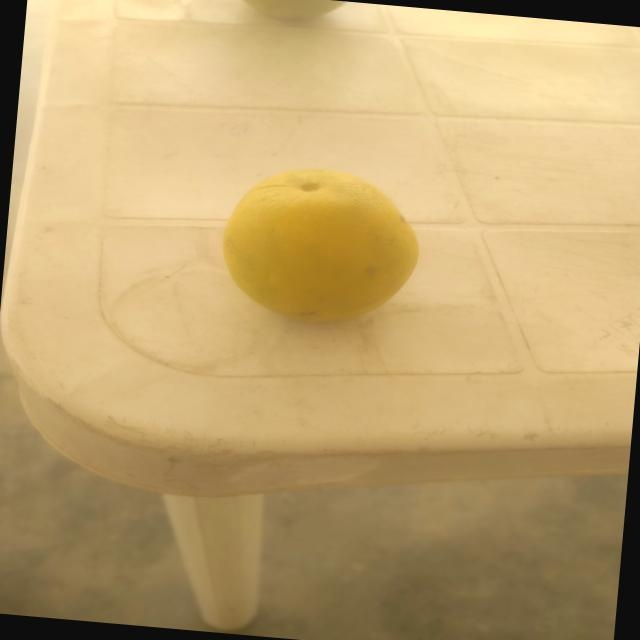agrume: (177, 147, 460, 369)
